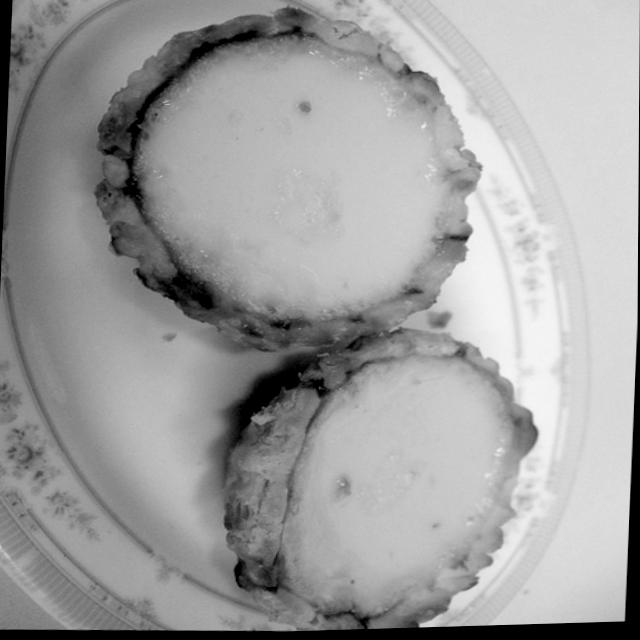炸货点心: (77, 0, 501, 368)
蛋糕甜品: (77, 0, 501, 368)
